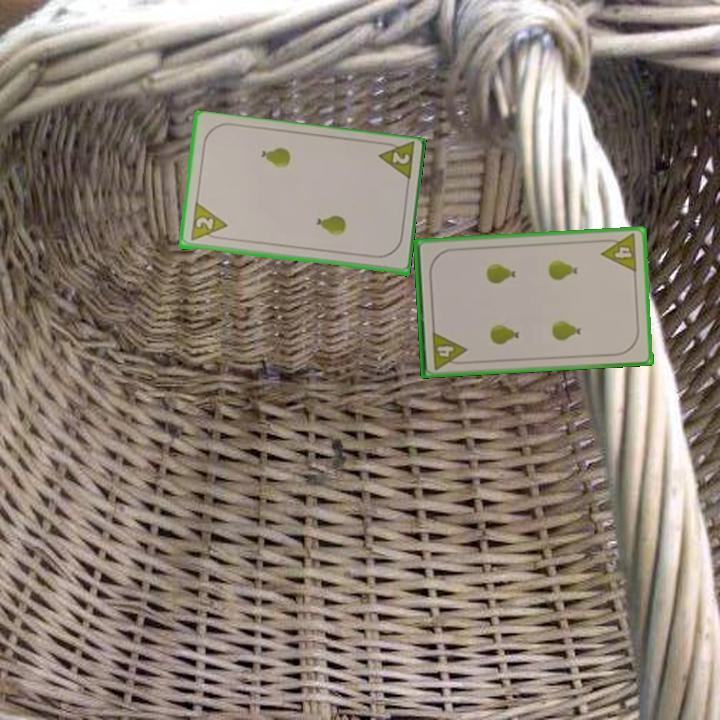2p: (374, 139, 417, 185), (187, 201, 229, 244)
4p: (598, 230, 640, 275), (428, 328, 469, 372)
